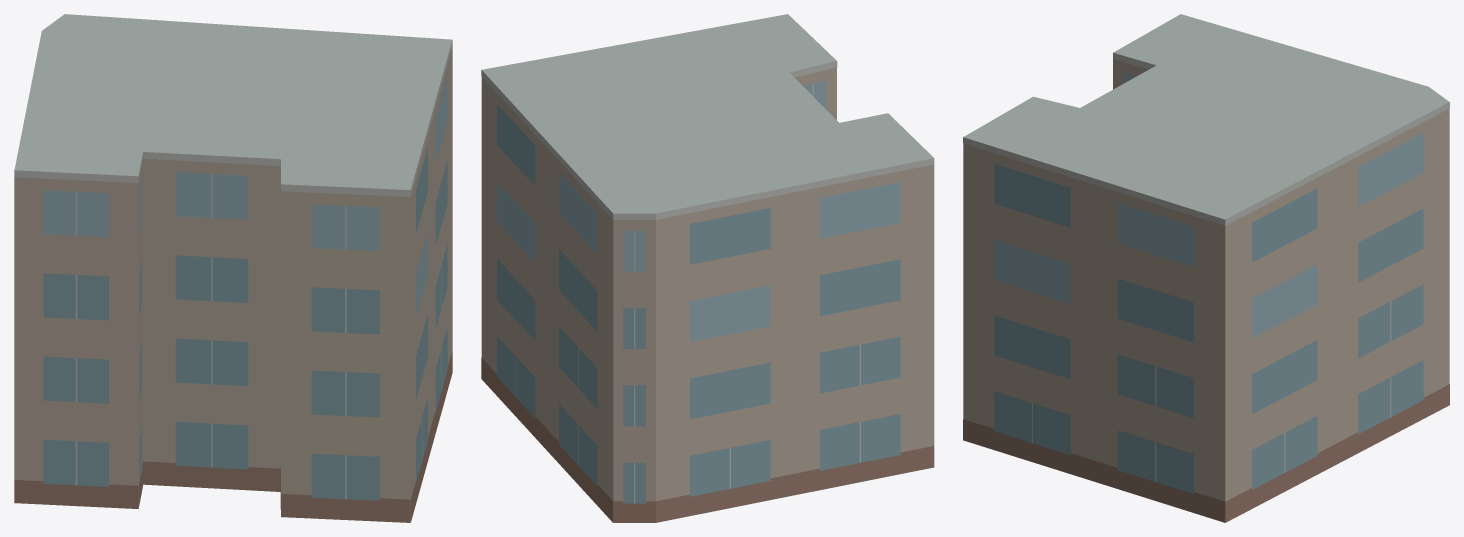
Rendered from survey-upis-33020432.glb.
3 renders of one model, left to right at view 1: azimuth 30°, elevation 25°; view 2: azimuth 150°, elevation 25°; view 3: azimuth 270°, elevation 25°, orthographic. The views are drawn at different scales.
Parts seen in each view (by area): view 1: survey-upis-33020432.tmp; view 2: survey-upis-33020432.tmp; view 3: survey-upis-33020432.tmp.
Part boxes in pixels (x1,y1,x2,y2): survey-upis-33020432.tmp: [14, 14, 452, 522]; survey-upis-33020432.tmp: [481, 14, 934, 522]; survey-upis-33020432.tmp: [963, 14, 1449, 522].
Bounding box in the file's own units: 17.18 × 11.8 × 17.17.
